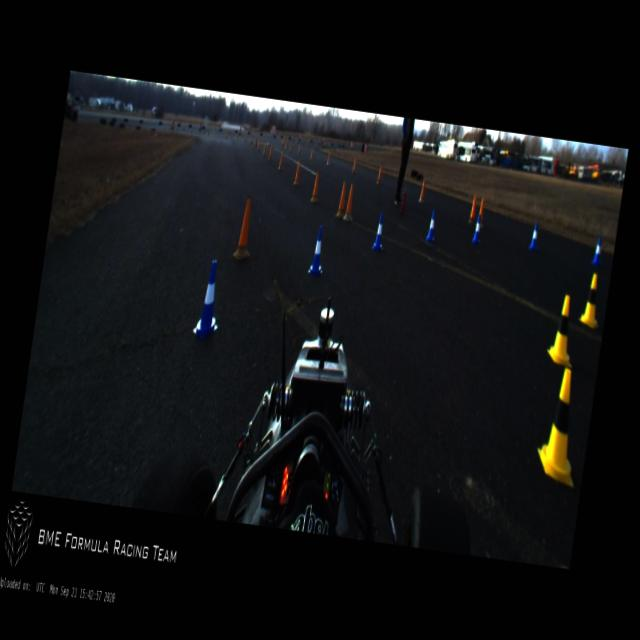blue_cone: (192, 258, 226, 342), (306, 223, 328, 280), (371, 210, 389, 254), (424, 208, 439, 243), (470, 213, 484, 247), (528, 222, 542, 254), (591, 237, 605, 266)
yellow_cone: (534, 366, 590, 488), (545, 291, 581, 368), (578, 270, 606, 332)
